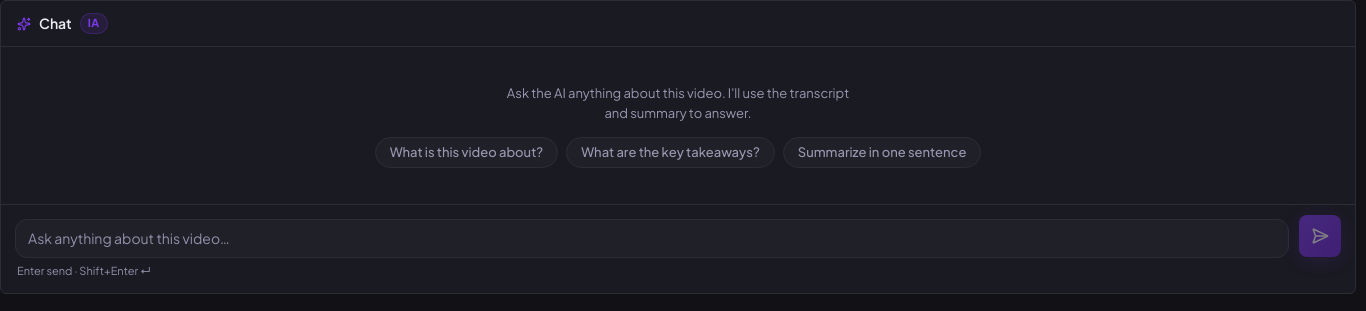
Test case: ChatSection › send button enables when user types
The width and height of the screenshot is (1366, 311).
Type "What is this?" into the text box. click: (652, 238)
box: [15,219,1289,258]
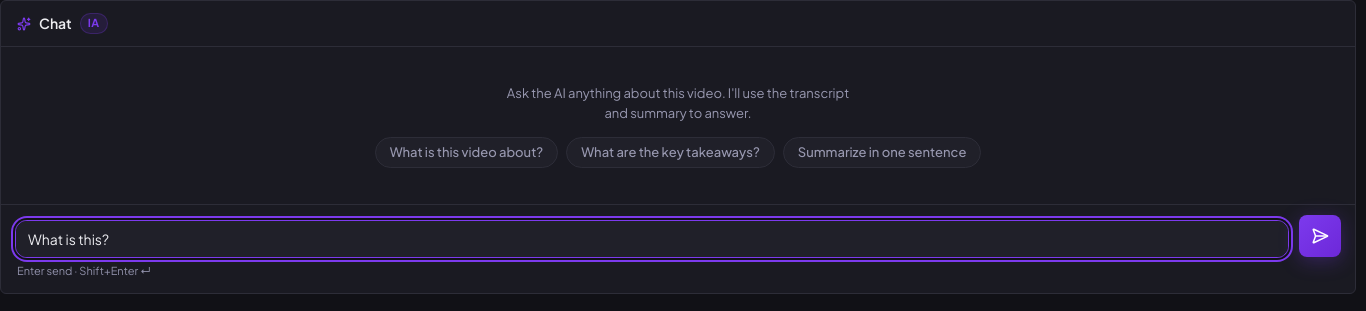
Result: the button named "Send" is enabled at [1299,215,1341,257]
